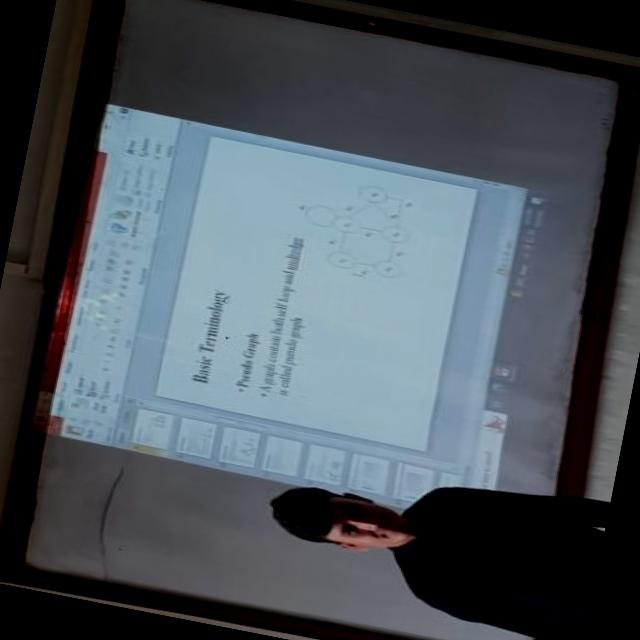Instructor: (215, 428, 602, 622)
Slide: (32, 102, 558, 531)
White-board: (7, 0, 639, 640)
